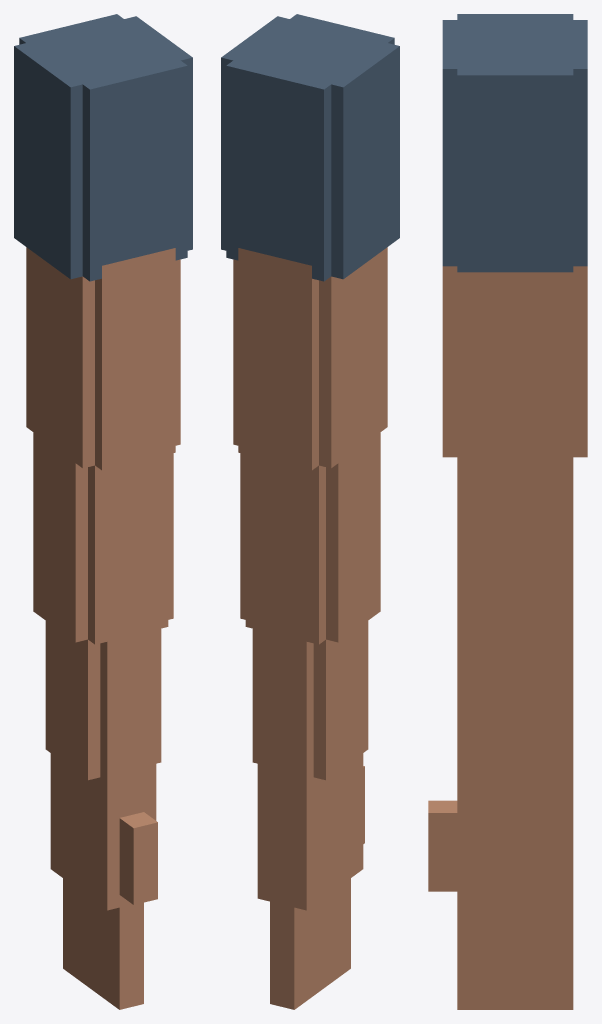
Rendered from player_arm.glb.
3 views of the same model, side by side, from view 1: azimuth 30°, elevation 25°; view 2: azimuth 150°, elevation 25°; view 3: azimuth 270°, elevation 25° (orthographic). The views are drawn at different scales.
Parts seen in each view (by area): view 1: arm:avatarArm; view 2: arm:avatarArm; view 3: arm:avatarArm.
Part boxes in pixels (bbox=[...]): arm:avatarArm: bbox=[14, 14, 192, 1009]; arm:avatarArm: bbox=[221, 14, 399, 1009]; arm:avatarArm: bbox=[428, 14, 587, 1009].
Bounding box in the file's own units: 0.1 × 0.73 × 0.11.
